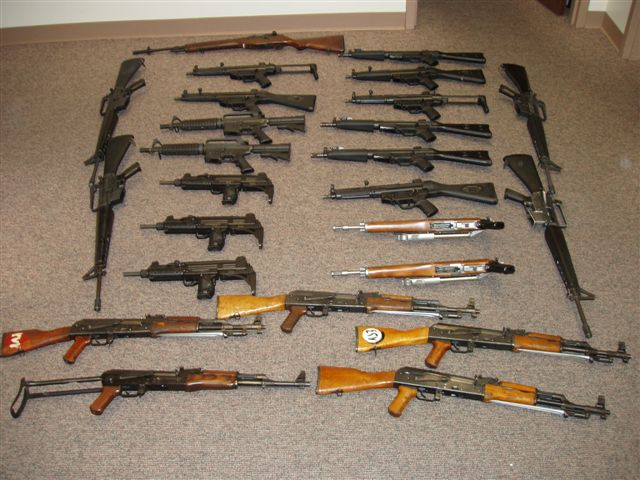rifle: (11, 369, 313, 419), (326, 316, 628, 366), (309, 365, 611, 415), (1, 311, 265, 364), (128, 207, 307, 246), (323, 170, 502, 209), (318, 111, 493, 141), (314, 140, 494, 169), (157, 170, 308, 203), (155, 168, 306, 201), (179, 55, 329, 87), (147, 135, 298, 164)
